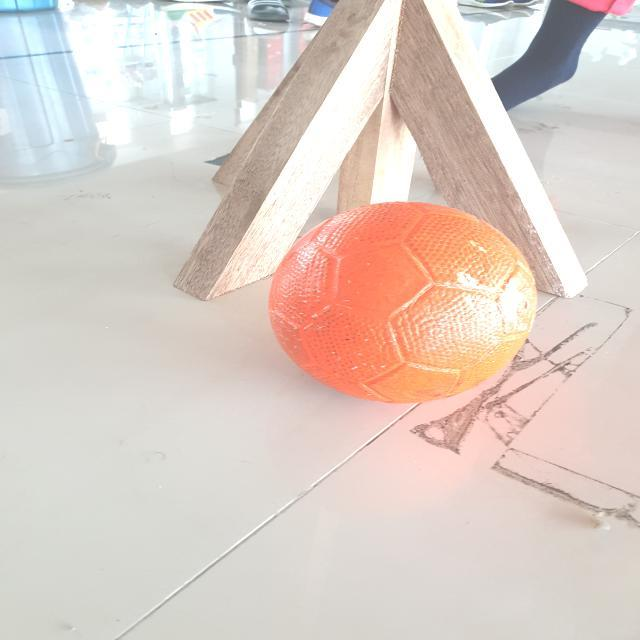bola: (264, 193, 546, 411)
